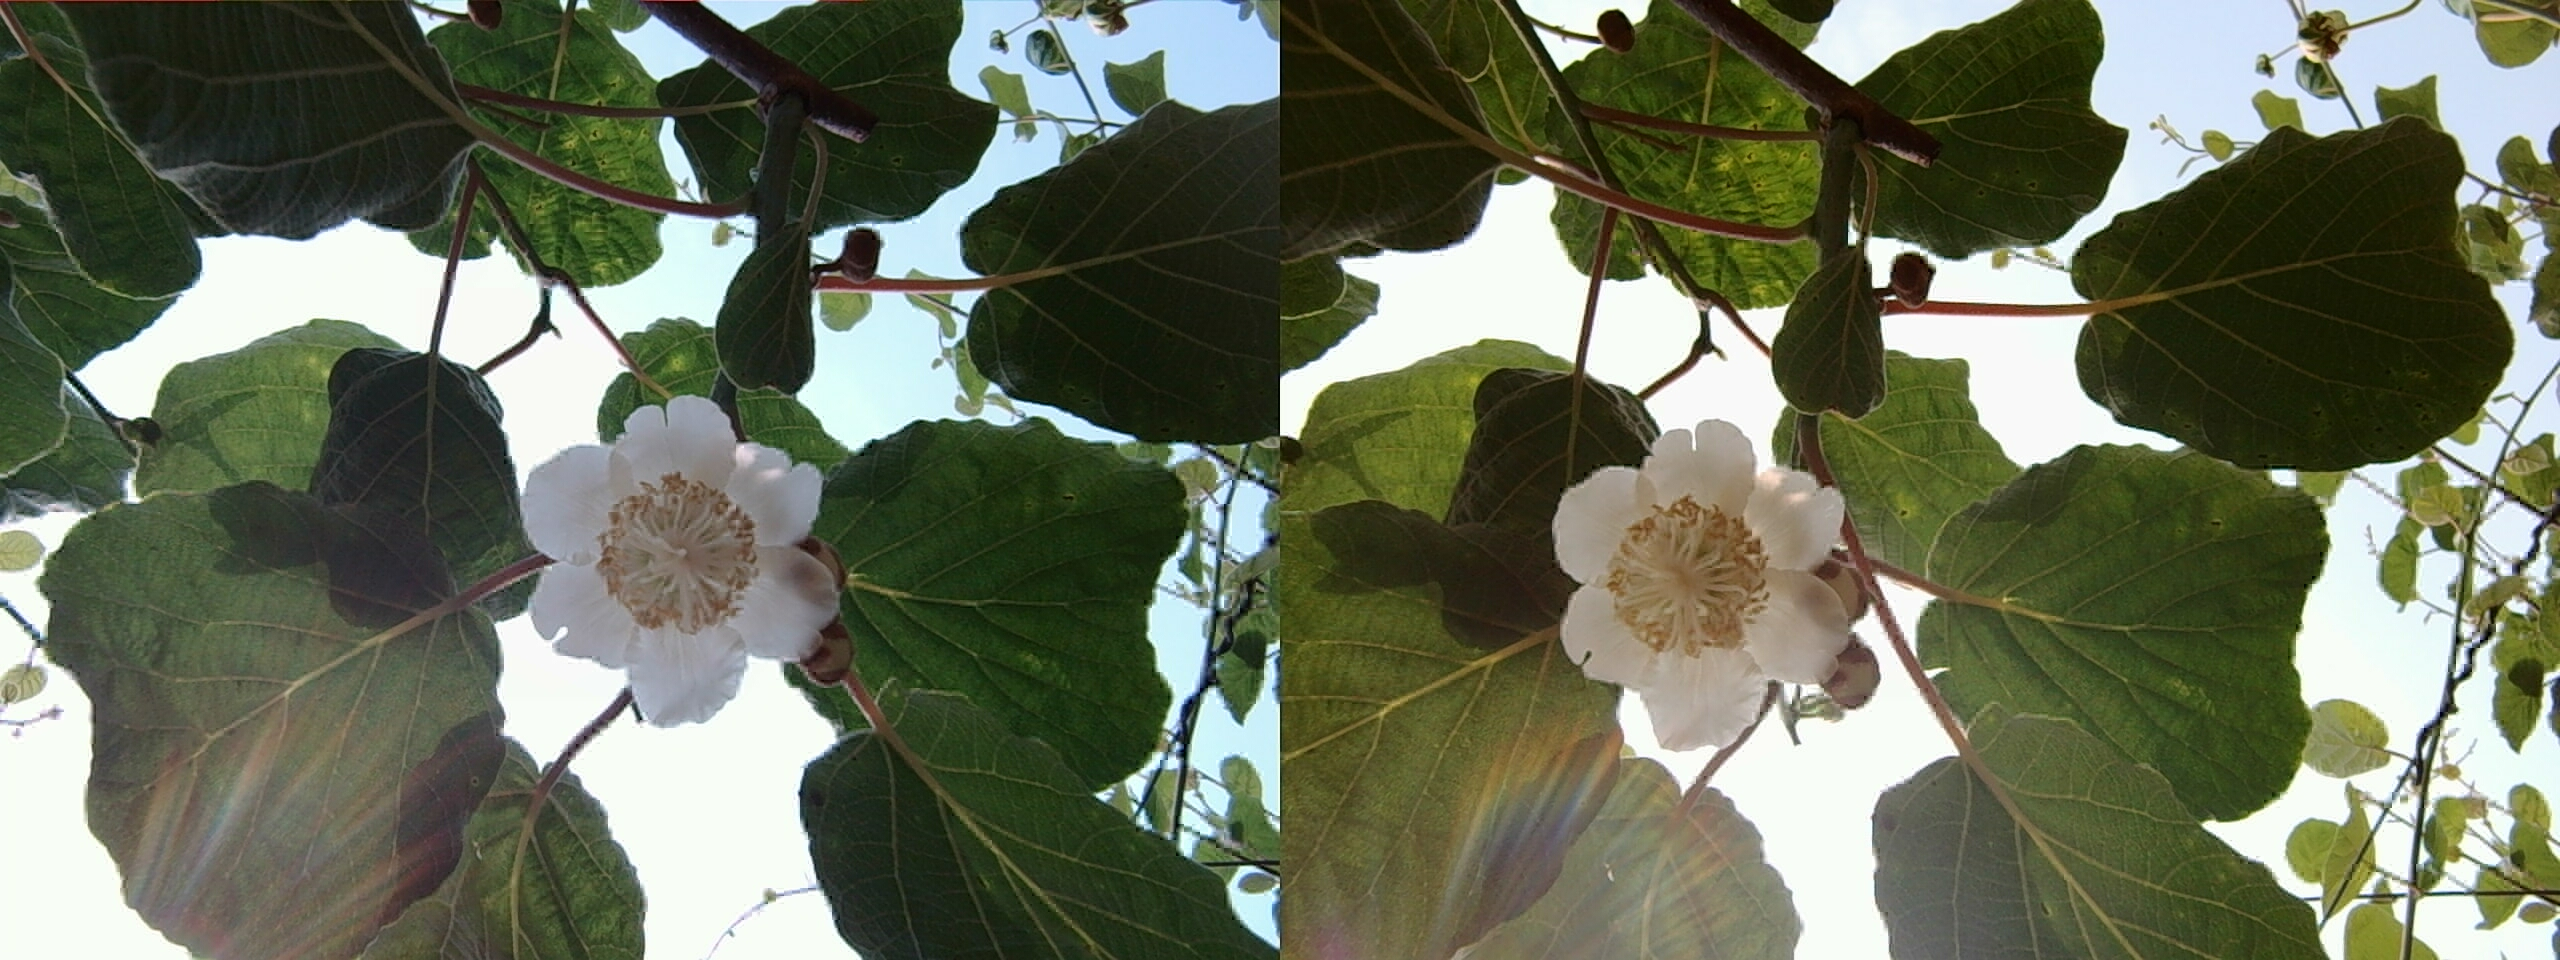flower: (1546, 423, 1855, 748), (518, 405, 838, 717)
